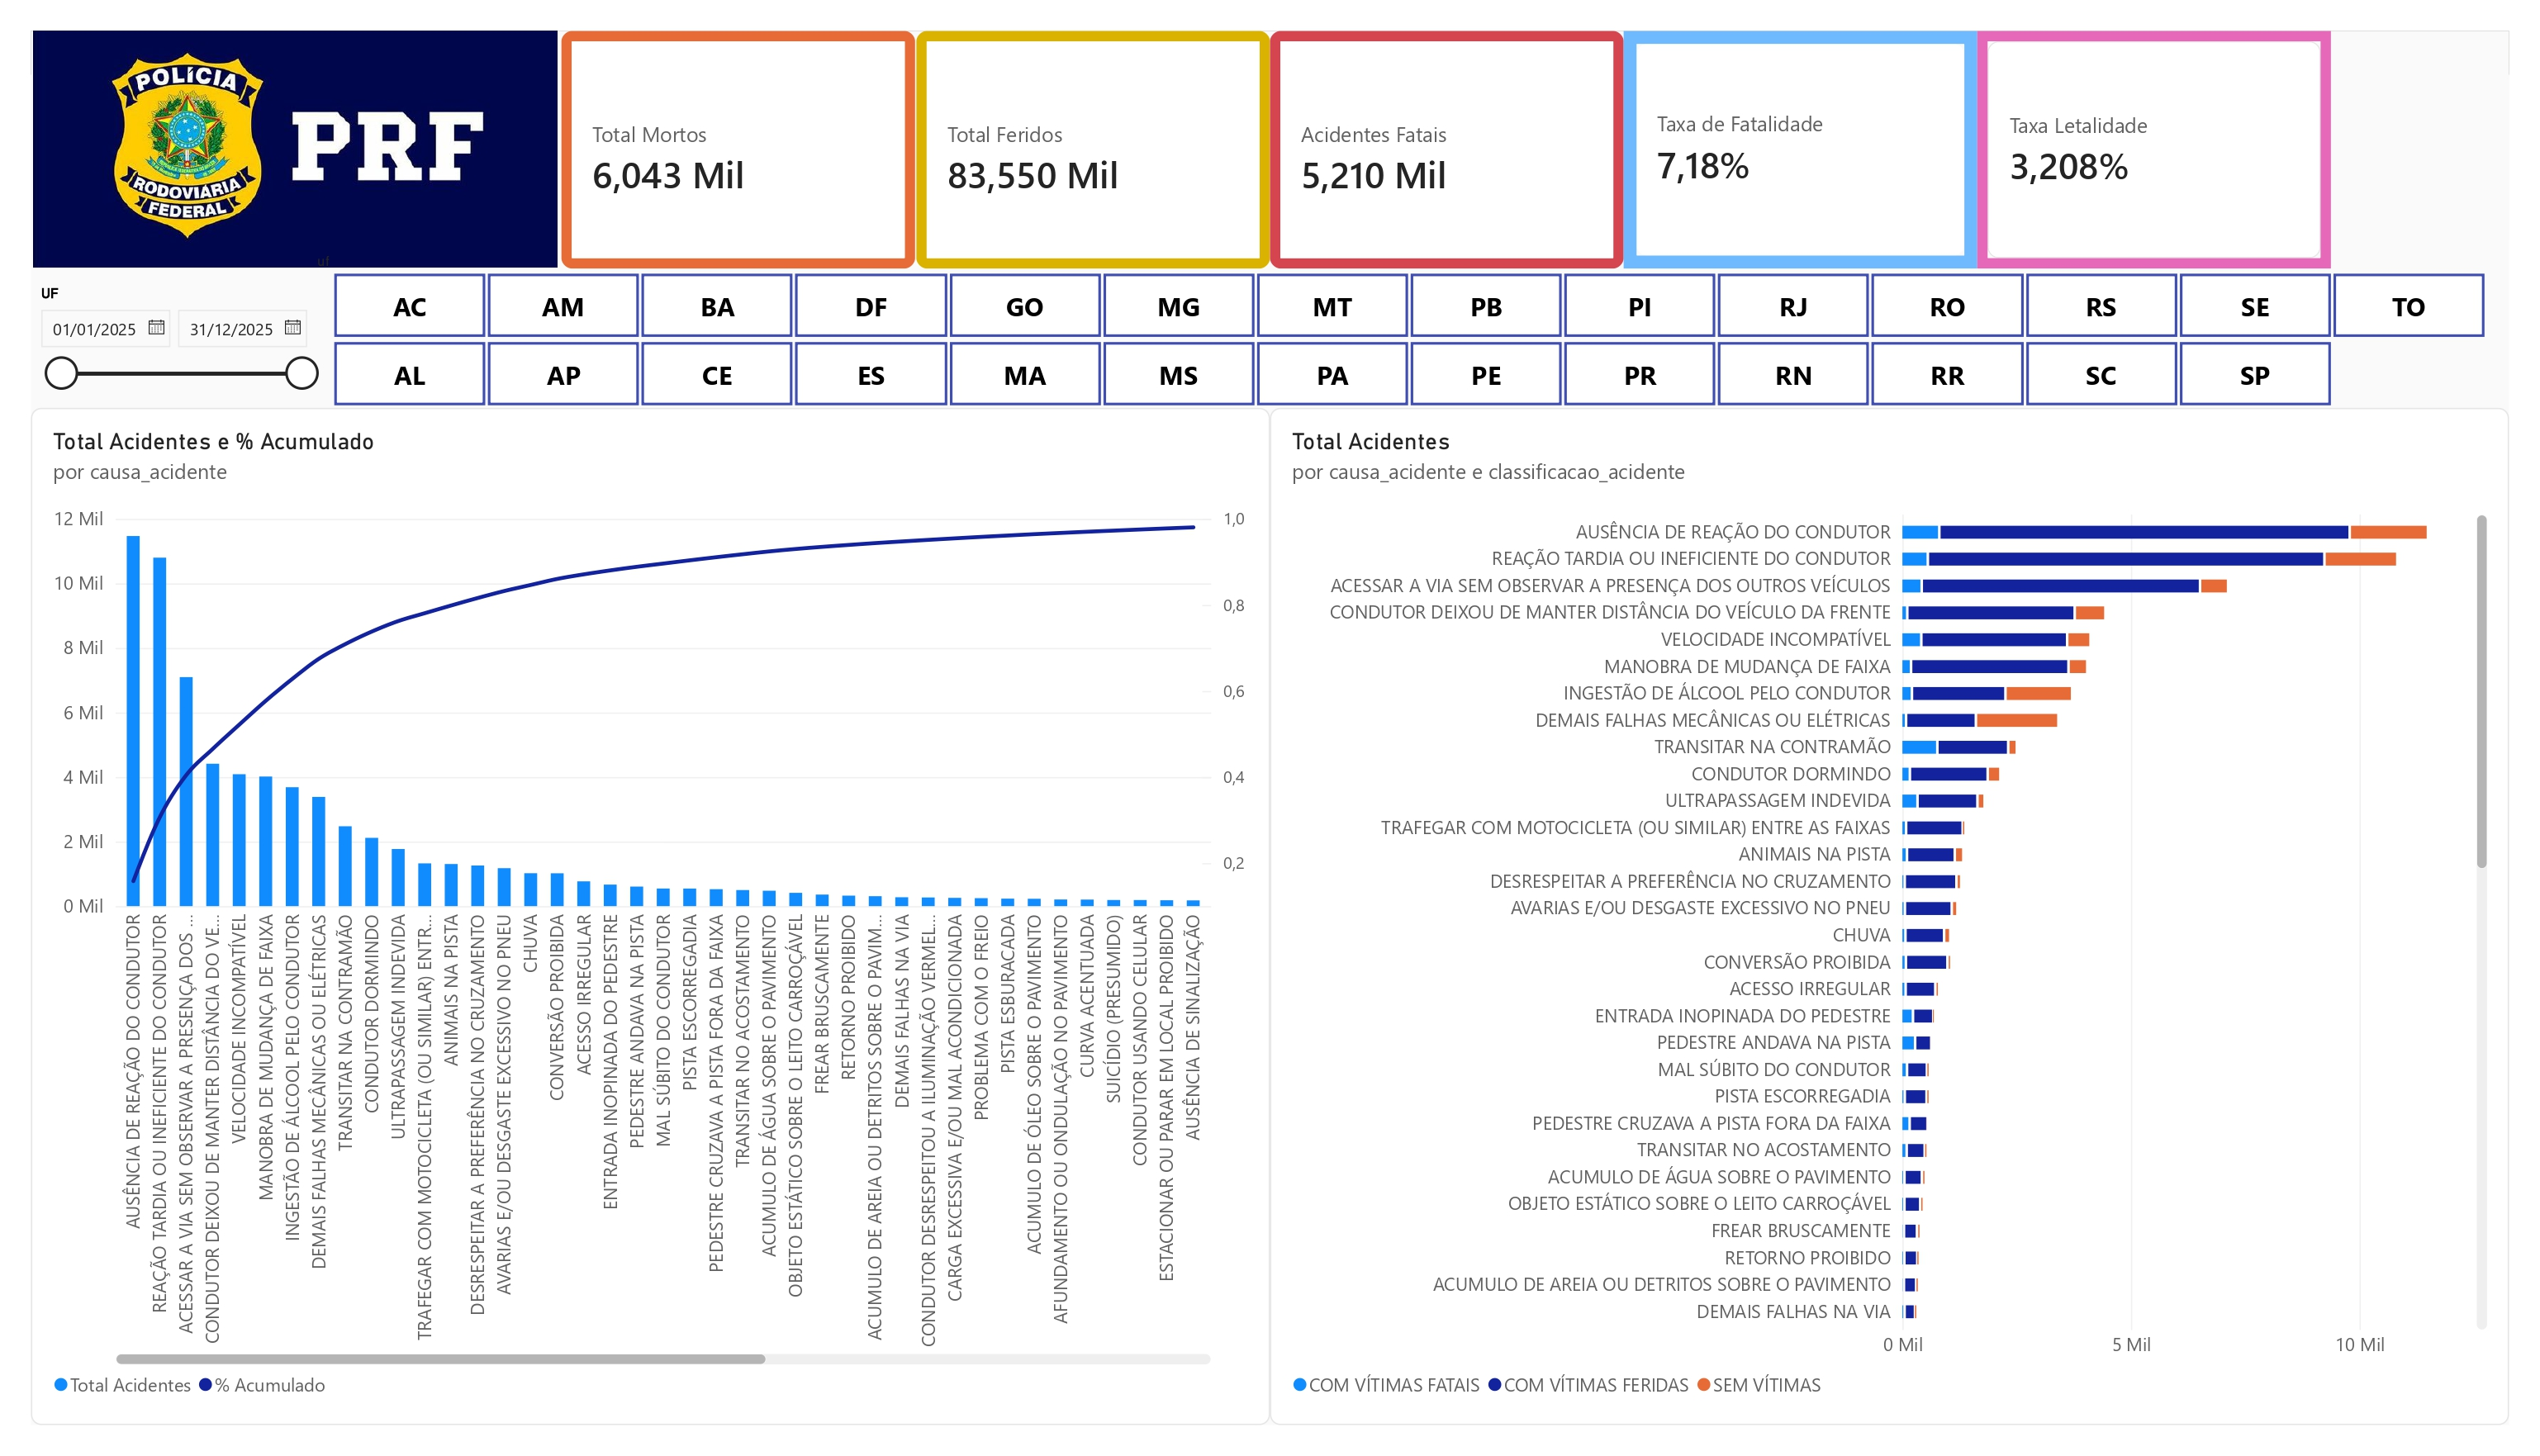

Layout of this report page (visuals, bound fields, positions):
{"tool":"powerbi","page":{"name":"Pareto","canvas":[1920,1080],"ordinal":10},"visuals":[{"type":"image","box":[0,0,410.3,183.2],"z":0},{"type":"cardVisual","fields":{"Data":["base_analitica_prf_2025.Total_Mortos"]},"box":[411,0,274,184],"z":1000},{"type":"cardVisual","fields":{"Data":["base_analitica_prf_2025.Total_Feridos"]},"box":[686.3,0,274,184],"z":2000},{"type":"cardVisual","fields":{"Data":["base_analitica_prf_2025.Acidentes_Fatais"]},"box":[960.3,0,274,184],"z":3000},{"type":"cardVisual","fields":{"Data":["base_analitica_prf_2025.Porcentagem_Fatal"]},"box":[1234.3,0,274,184],"z":4000},{"type":"cardVisual","fields":{"Data":["base_analitica_prf_2025.Taxa Letalidade"]},"box":[1508.3,0,274,184],"z":5000},{"type":"slicer","fields":{"Values":["base_analitica_prf_2025.uf"]},"box":[214.5,172.2,1705.5,119.6],"z":6000},{"type":"slicer","fields":{"Values":["base_analitica_prf_2025.data_inversa"]},"box":[0,197,226.1,125.5],"z":7000},{"type":"lineClusteredColumnComboChart","fields":{"Category":["base_analitica_prf_2025.causa_acidente"],"Y":["base_analitica_prf_2025.Total Acidentes"],"Y2":["base_analitica_prf_2025.% Acumulado"]},"box":[0,292.1,960,788.1],"z":10001},{"type":"barChart","fields":{"Category":["base_analitica_prf_2025.causa_acidente"],"Series":["base_analitica_prf_2025.classificacao_acidente"],"Y":["base_analitica_prf_2025.Total Acidentes"]},"box":[960,292,960,788],"z":10002}]}

Visuals, with their boxes on the page's 1920x1080 design canvas (x1, y1, x2, y2). These are canvas units, not pixel positions in the 2540x1456 screenshot, which may show the page scaled, cropped or inside an application window:
image: (0, 0, 410, 183)
cardVisual - base_analitica_prf_2025.Total_Mortos: (411, 0, 685, 184)
cardVisual - base_analitica_prf_2025.Total_Feridos: (686, 0, 960, 184)
cardVisual - base_analitica_prf_2025.Acidentes_Fatais: (960, 0, 1234, 184)
cardVisual - base_analitica_prf_2025.Porcentagem_Fatal: (1234, 0, 1508, 184)
cardVisual - base_analitica_prf_2025.Taxa Letalidade: (1508, 0, 1782, 184)
slicer - base_analitica_prf_2025.uf: (214, 172, 1920, 292)
slicer - base_analitica_prf_2025.data_inversa: (0, 197, 226, 322)
lineClusteredColumnComboChart - base_analitica_prf_2025.causa_acidente x base_analitica_prf_2025.Total Acidentes: (0, 292, 960, 1080)
barChart - base_analitica_prf_2025.causa_acidente x base_analitica_prf_2025.classificacao_acidente: (960, 292, 1920, 1080)
